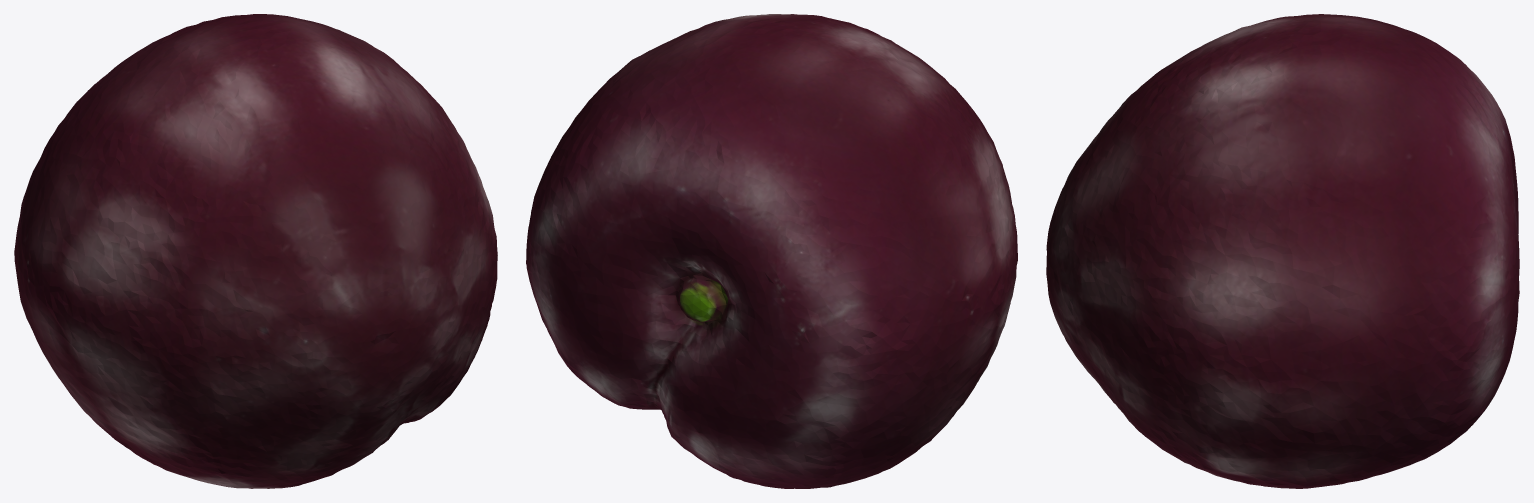
The picture shows the model from 3 angles, left to right: view 1: azimuth 30°, elevation 25°; view 2: azimuth 150°, elevation 25°; view 3: azimuth 270°, elevation 25°; orthographic projection. The views are drawn at different scales.
Visible parts, largest first — view 1: node; view 2: node; view 3: node.
Part boxes in pixels (bbox=[...]): node: bbox=[14, 14, 497, 488]; node: bbox=[526, 14, 1017, 488]; node: bbox=[1046, 14, 1519, 488].
Size of the model in its own units: 0.0572 by 0.0549 by 0.053.
Materials: 1 (1 with a texture image).
